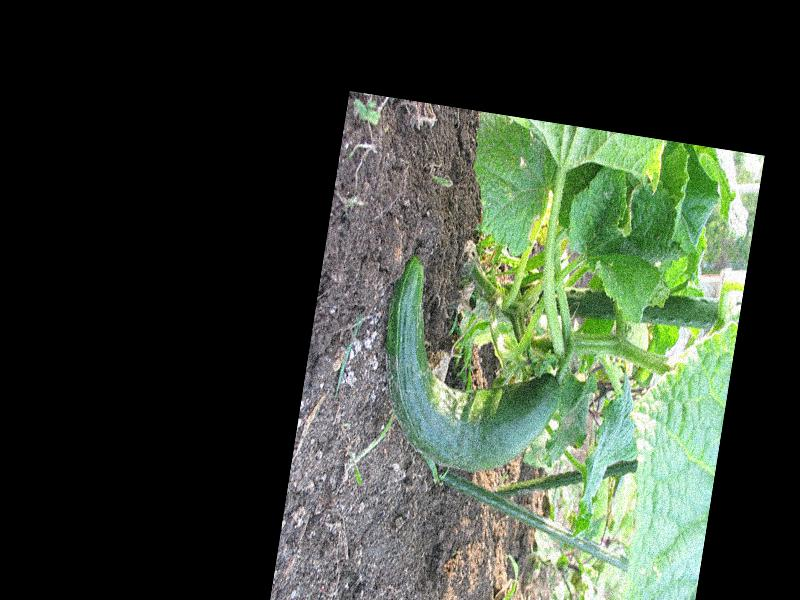Cucumber: (365, 251, 579, 484)
